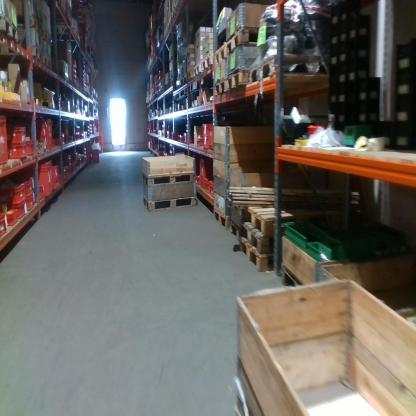pallet: (248, 50, 327, 88), (225, 24, 277, 50), (241, 236, 275, 270), (142, 194, 197, 213), (140, 170, 197, 186), (244, 222, 272, 253), (248, 206, 275, 231), (227, 67, 249, 94), (1, 16, 18, 47), (14, 19, 43, 37), (14, 48, 43, 65), (282, 268, 305, 289), (214, 77, 229, 103), (212, 208, 229, 229), (209, 41, 226, 61), (198, 51, 214, 69), (228, 225, 239, 240), (41, 31, 53, 44), (43, 58, 53, 72), (186, 69, 194, 84), (193, 63, 200, 80)
small_load_carrier: (394, 122, 413, 152), (37, 161, 52, 198), (396, 48, 413, 78), (7, 123, 29, 146), (198, 157, 213, 189), (8, 182, 25, 208), (395, 78, 413, 102), (9, 143, 32, 161), (395, 102, 413, 122), (6, 205, 20, 230), (0, 118, 6, 165), (46, 118, 53, 154), (0, 211, 8, 240), (24, 176, 35, 197), (15, 202, 25, 220), (50, 177, 61, 193), (209, 125, 215, 153), (34, 118, 46, 132), (24, 193, 32, 212), (28, 140, 36, 159), (201, 121, 209, 137), (91, 149, 100, 163), (36, 187, 44, 202), (34, 130, 46, 140), (51, 166, 59, 181), (205, 178, 212, 194), (196, 137, 203, 149), (203, 137, 209, 150), (209, 182, 214, 197)
